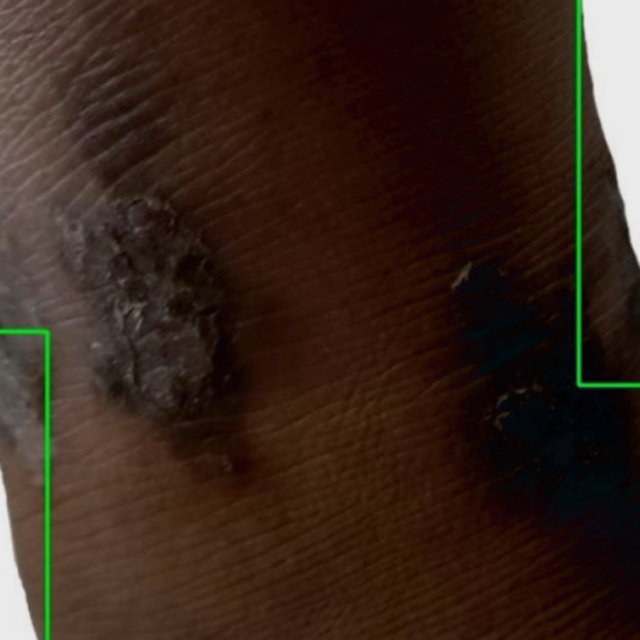Contact Dermatitis: (579, 0, 639, 385)
